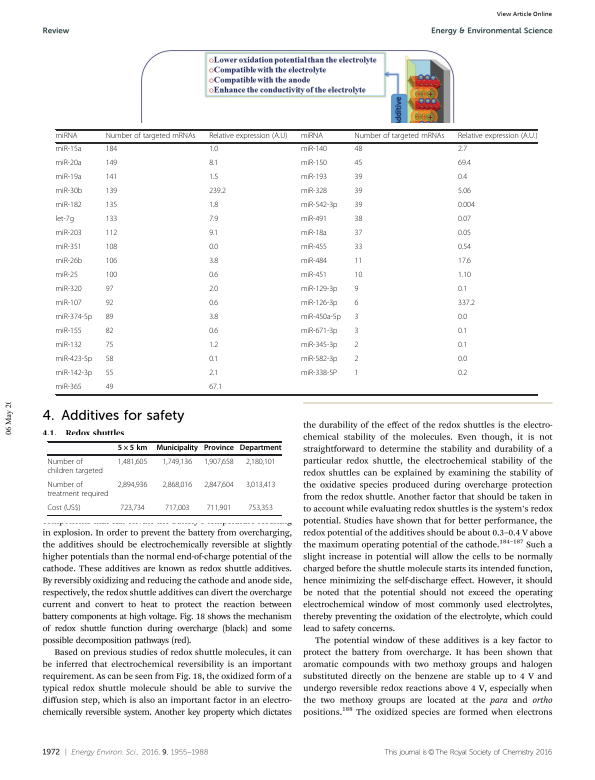borderless: (54, 128, 537, 394), (46, 440, 282, 515)
cell: (47, 480, 109, 498), (47, 457, 104, 475), (353, 132, 445, 141), (105, 132, 196, 141), (457, 132, 538, 141), (208, 132, 288, 141), (300, 313, 342, 323), (155, 444, 199, 453), (239, 444, 282, 453), (300, 201, 338, 211), (300, 285, 338, 295), (300, 299, 338, 309), (55, 313, 93, 323), (300, 327, 338, 337), (300, 341, 338, 351), (55, 355, 93, 365), (300, 355, 338, 365), (55, 369, 93, 379), (300, 369, 338, 379), (161, 457, 193, 467), (203, 457, 235, 467), (47, 503, 82, 512), (117, 457, 148, 467), (245, 457, 276, 467), (203, 444, 235, 453), (161, 480, 193, 489), (203, 480, 235, 489), (300, 145, 328, 155), (300, 159, 328, 169), (300, 173, 328, 183), (55, 187, 83, 197), (300, 187, 328, 197), (300, 215, 328, 225), (300, 229, 328, 239), (300, 243, 328, 253), (55, 257, 83, 267), (300, 257, 328, 267), (300, 271, 328, 281), (117, 444, 148, 453), (117, 480, 148, 489), (245, 480, 276, 489), (55, 145, 82, 155), (55, 159, 82, 169), (55, 173, 82, 183), (55, 201, 82, 211), (55, 229, 82, 239), (55, 243, 82, 253), (55, 285, 82, 295), (55, 299, 82, 309), (55, 327, 82, 337), (55, 341, 82, 351), (55, 383, 82, 393), (119, 503, 146, 512), (247, 503, 274, 512), (55, 271, 79, 281), (164, 503, 190, 512), (206, 503, 232, 512), (300, 132, 324, 141), (55, 132, 78, 141), (55, 215, 75, 225), (208, 187, 227, 197), (457, 201, 476, 211), (457, 299, 476, 309), (457, 159, 472, 169), (457, 187, 472, 197), (457, 215, 472, 225), (457, 229, 472, 239), (457, 243, 472, 253), (457, 257, 472, 267), (457, 271, 472, 281), (208, 383, 223, 393), (105, 145, 118, 155), (105, 159, 118, 169), (105, 173, 118, 183), (105, 187, 118, 197), (105, 201, 118, 211), (105, 215, 118, 225), (105, 229, 118, 239), (105, 243, 118, 253), (105, 257, 118, 267), (105, 271, 118, 281), (208, 145, 219, 155), (457, 145, 468, 155), (208, 159, 219, 169), (208, 173, 219, 183), (457, 173, 468, 183), (208, 201, 219, 211), (208, 215, 219, 225), (208, 229, 219, 239), (208, 243, 219, 253), (208, 257, 219, 267), (208, 271, 219, 281), (208, 285, 219, 295), (457, 285, 468, 295), (208, 299, 219, 309), (208, 313, 219, 323), (457, 313, 468, 323), (208, 327, 219, 337), (457, 327, 468, 337), (208, 341, 219, 351), (457, 341, 468, 351), (208, 355, 219, 365), (457, 355, 468, 365), (208, 369, 219, 379), (457, 369, 468, 379), (353, 145, 363, 155), (353, 159, 363, 169), (353, 173, 363, 183), (353, 187, 363, 197), (353, 201, 363, 211), (353, 215, 363, 225), (353, 229, 363, 239), (353, 243, 363, 253), (353, 257, 363, 267), (353, 271, 363, 281), (105, 285, 114, 295), (105, 299, 114, 309), (105, 313, 114, 323), (105, 327, 114, 337), (105, 341, 114, 351), (105, 355, 114, 365), (105, 369, 114, 379), (105, 383, 114, 393), (353, 285, 359, 295), (353, 299, 359, 309), (353, 313, 359, 323), (353, 327, 359, 337), (353, 341, 359, 351), (353, 355, 359, 365), (353, 369, 359, 379)
